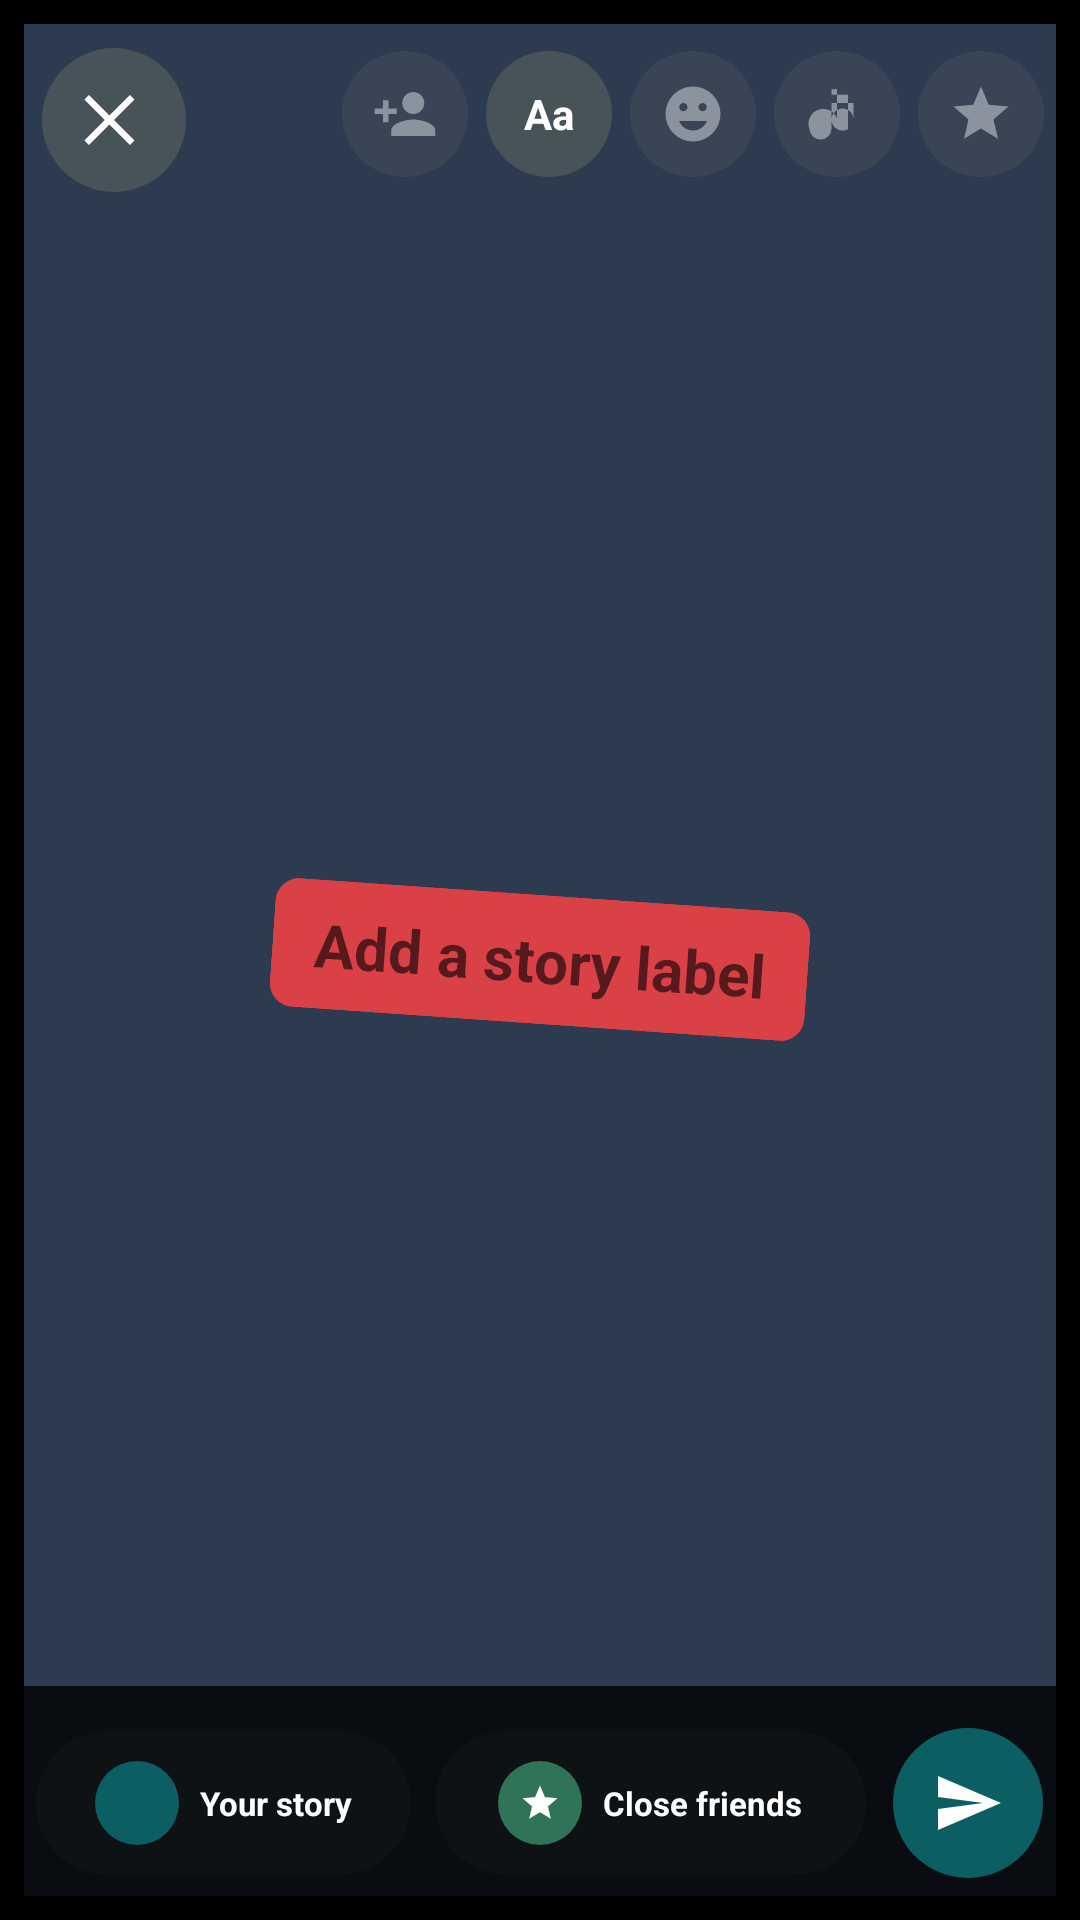

Locate icon controls on the screen. Image size 1080 x 1920, boxes as box(x1, y1, x2, y2).
Close: box(42, 48, 186, 192)
Continue: box(893, 1728, 1043, 1878)
Sticker: box(665, 86, 721, 142)
Tag people: box(342, 51, 468, 177)
